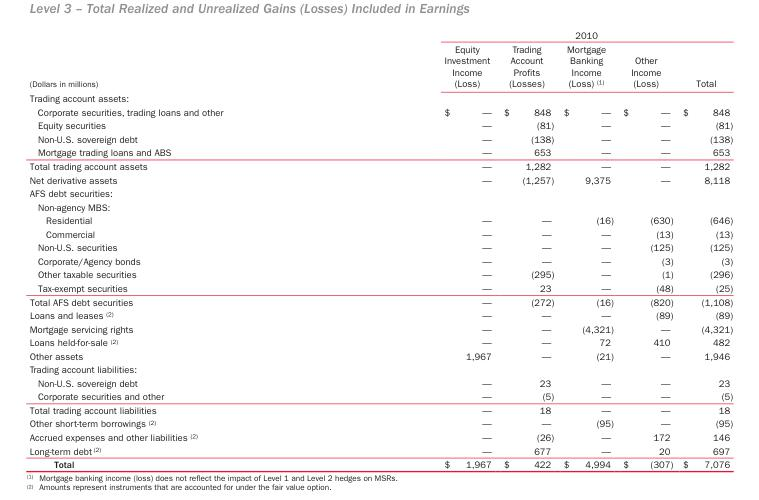table: (28, 28, 732, 469)
table column: (28, 28, 332, 469), (332, 28, 496, 469), (496, 28, 557, 469), (557, 28, 617, 469), (617, 28, 677, 469), (677, 28, 732, 469)
table column header: (28, 28, 732, 90)
table projected row header: (28, 90, 732, 104), (28, 199, 732, 213), (28, 186, 732, 199), (28, 362, 732, 375)
table row: (28, 41, 732, 90), (28, 90, 732, 104), (28, 104, 732, 118), (28, 131, 732, 145), (28, 158, 732, 172), (28, 172, 732, 186), (28, 199, 732, 213), (28, 226, 732, 240), (28, 253, 732, 267), (28, 280, 732, 294), (28, 294, 732, 308), (28, 321, 732, 335), (28, 348, 732, 362), (28, 375, 732, 389), (28, 402, 732, 416), (28, 429, 732, 443), (28, 28, 732, 41), (28, 118, 732, 131), (28, 145, 732, 158), (28, 186, 732, 199), (28, 213, 732, 226), (28, 240, 732, 253), (28, 267, 732, 280), (28, 308, 732, 321), (28, 335, 732, 348), (28, 362, 732, 375), (28, 389, 732, 402), (28, 416, 732, 429), (28, 443, 732, 456), (28, 456, 732, 469)
table spanning cell: (28, 28, 332, 90), (332, 28, 732, 41)
